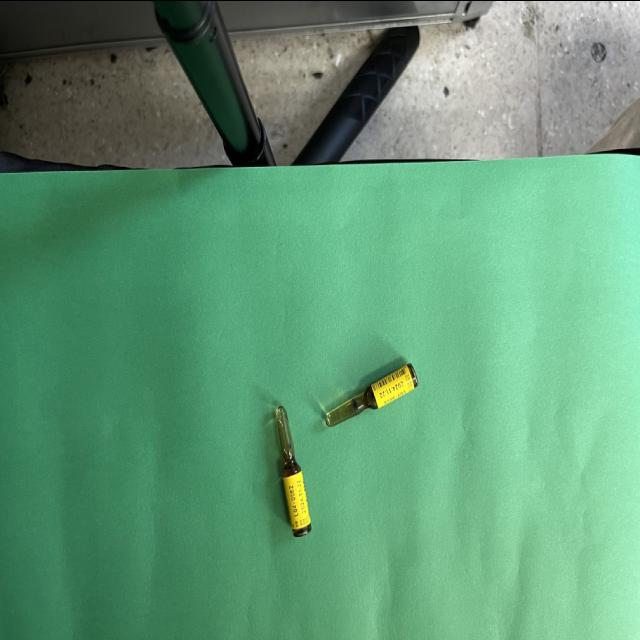Ampoules: (326, 363, 418, 426), (276, 405, 312, 535)
